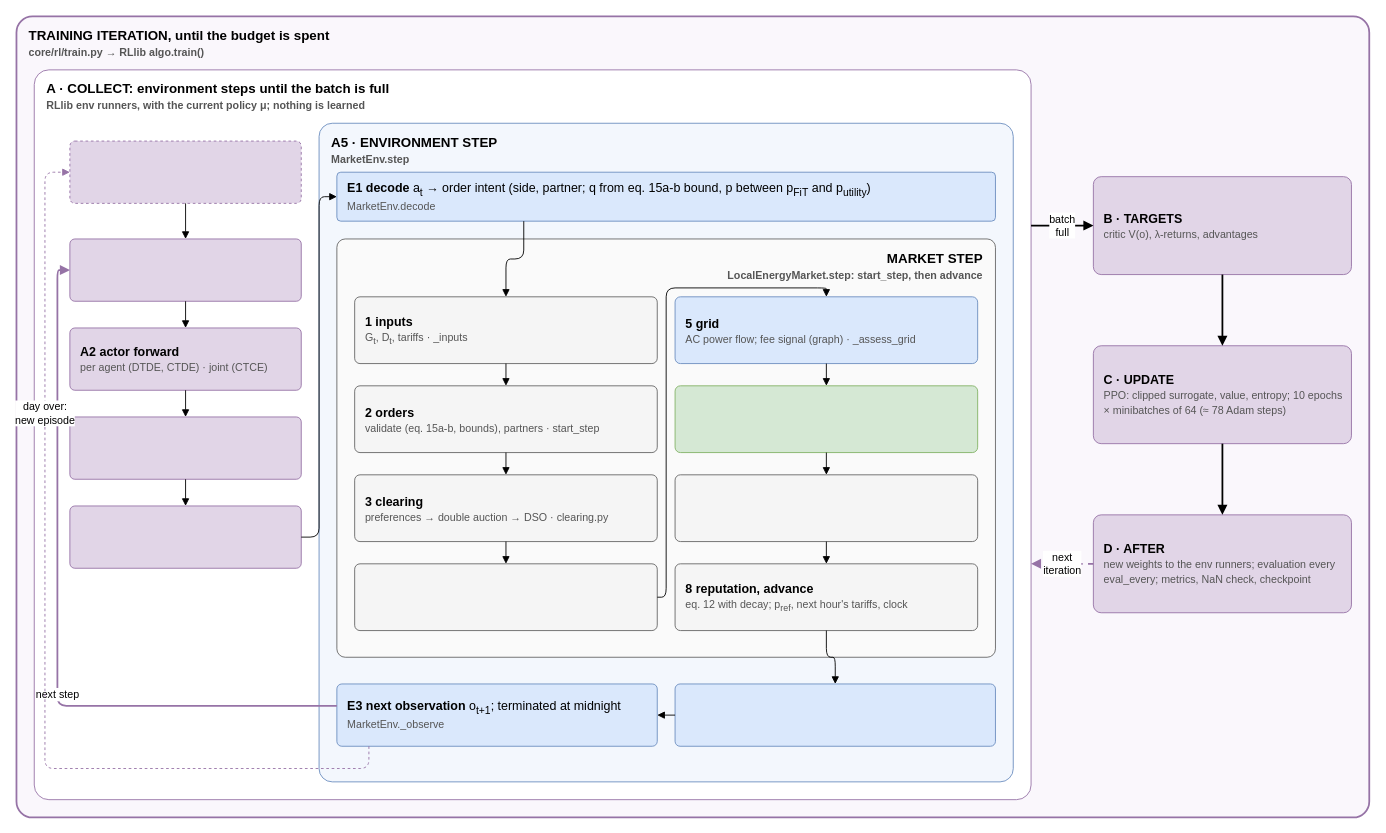
Some shapes in this 1386 by 833 pixel diagram are drawn without their labels. Here are the shapes that lost their labels. From the top down, the centre of each, then its label:
the point at 185,171: Episode start = one day MarketEnv.reset → market phase 0
the point at 185,269: A1 observe o t the paper's 42 signals
the point at 826,419: 6 fees eq. 8 per trade, split, paid · Dso.charge
the point at 185,447: A3 sample a, log μ(a) side, partner categorical · quantity, price Gaussian
the point at 826,508: 7 record clearing price, DSO eq. 7, StepRecord
the point at 185,536: A4 clip quantity, price to [−1, 1] side, partner as indices
the point at 505,597: 4 settlement balance eq. 13, battery eq. 16, profit eq. 14 · settle
the point at 834,714: E2 reward r t = net bill / scale profit − p utility · deferred demand
